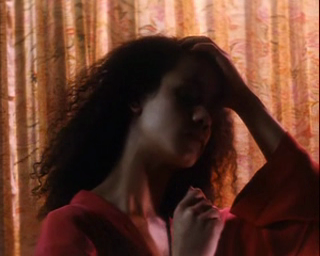cu: (1, 1, 320, 256)
face: (154, 61, 212, 167)
person: (28, 33, 320, 256)
